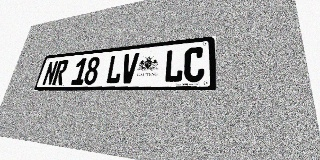1: (71, 58, 89, 85)
8: (83, 56, 101, 84)
C: (183, 46, 205, 82)
L: (163, 48, 184, 83), (105, 54, 124, 84)
N: (42, 61, 59, 85)
R: (52, 60, 69, 85)
V: (120, 53, 139, 84)
